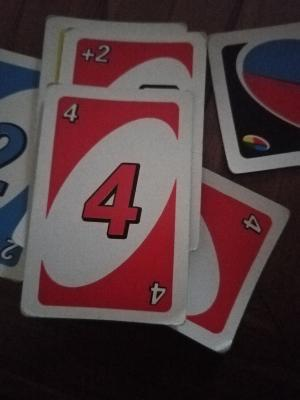-2: (78, 38, 116, 71)
colour: (207, 38, 300, 166)
num_2: (0, 227, 23, 269)
num_4: (232, 201, 266, 247)
red: (26, 90, 194, 322)
